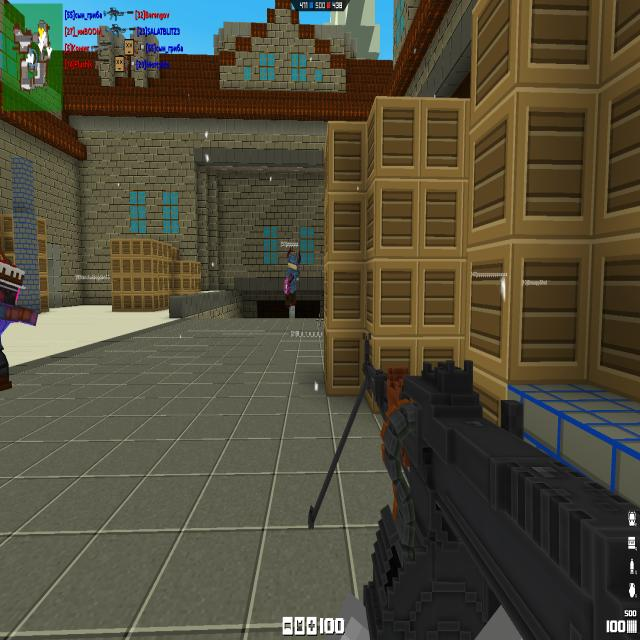player: (0, 241, 40, 385), (283, 248, 300, 314)
